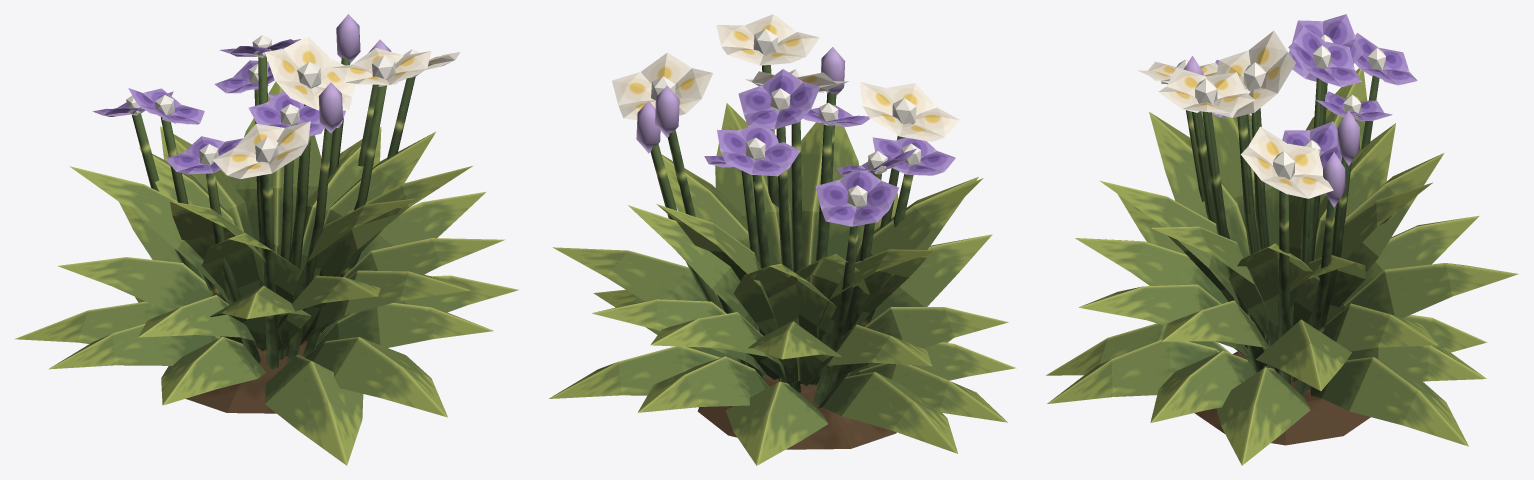
Rendered from flower_patch.glb.
The picture shows the model from 3 angles, left to right: view 1: azimuth 30°, elevation 25°; view 2: azimuth 150°, elevation 25°; view 3: azimuth 270°, elevation 25°; orthographic projection. The views are drawn at different scales.
Parts seen in each view (by area): view 1: flower_patch_stems_and_leaves, flower_patch_flower_heads; view 2: flower_patch_stems_and_leaves, flower_patch_flower_heads; view 3: flower_patch_stems_and_leaves, flower_patch_flower_heads.
Part boxes in pixels (bbox=[...]): flower_patch_stems_and_leaves: bbox=[14, 57, 518, 465]; flower_patch_flower_heads: bbox=[92, 14, 460, 179]; flower_patch_stems_and_leaves: bbox=[549, 65, 1016, 465]; flower_patch_flower_heads: bbox=[612, 14, 959, 226]; flower_patch_stems_and_leaves: bbox=[1046, 68, 1518, 465]; flower_patch_flower_heads: bbox=[1137, 14, 1417, 207].
Bounding box in the file's own units: 0.7 × 0.5 × 0.6.
Materials: 4 (4 with a texture image).
